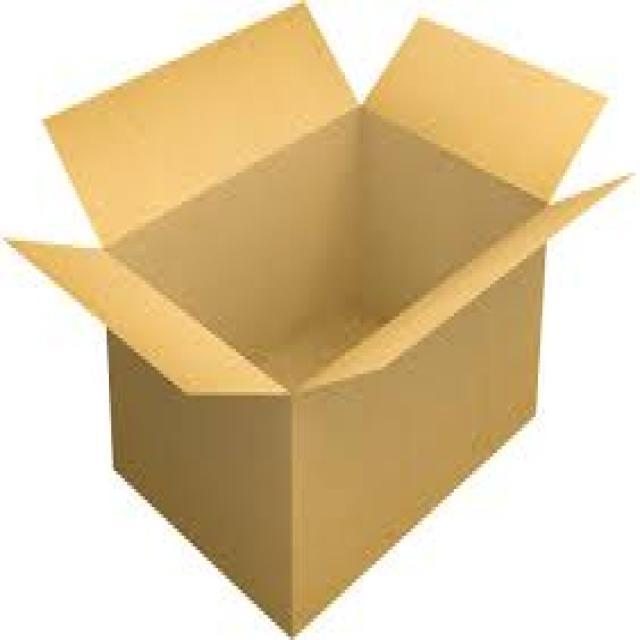Cardboard: (3, 0, 630, 635)
